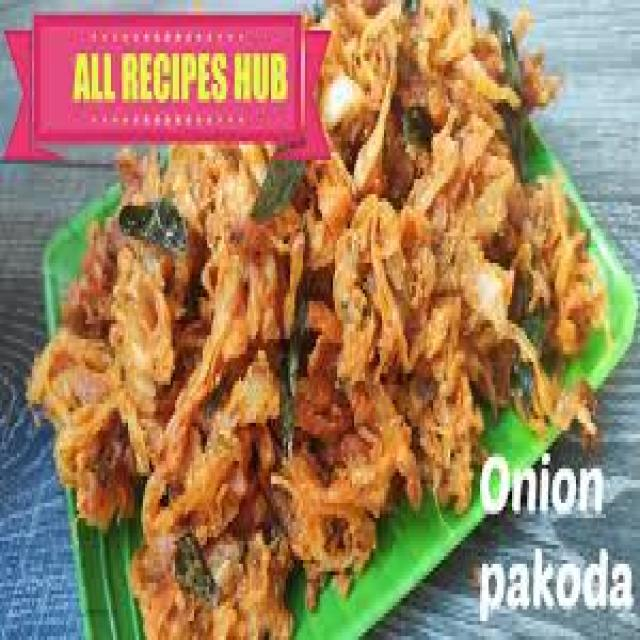BAJI: (32, 0, 600, 636)
